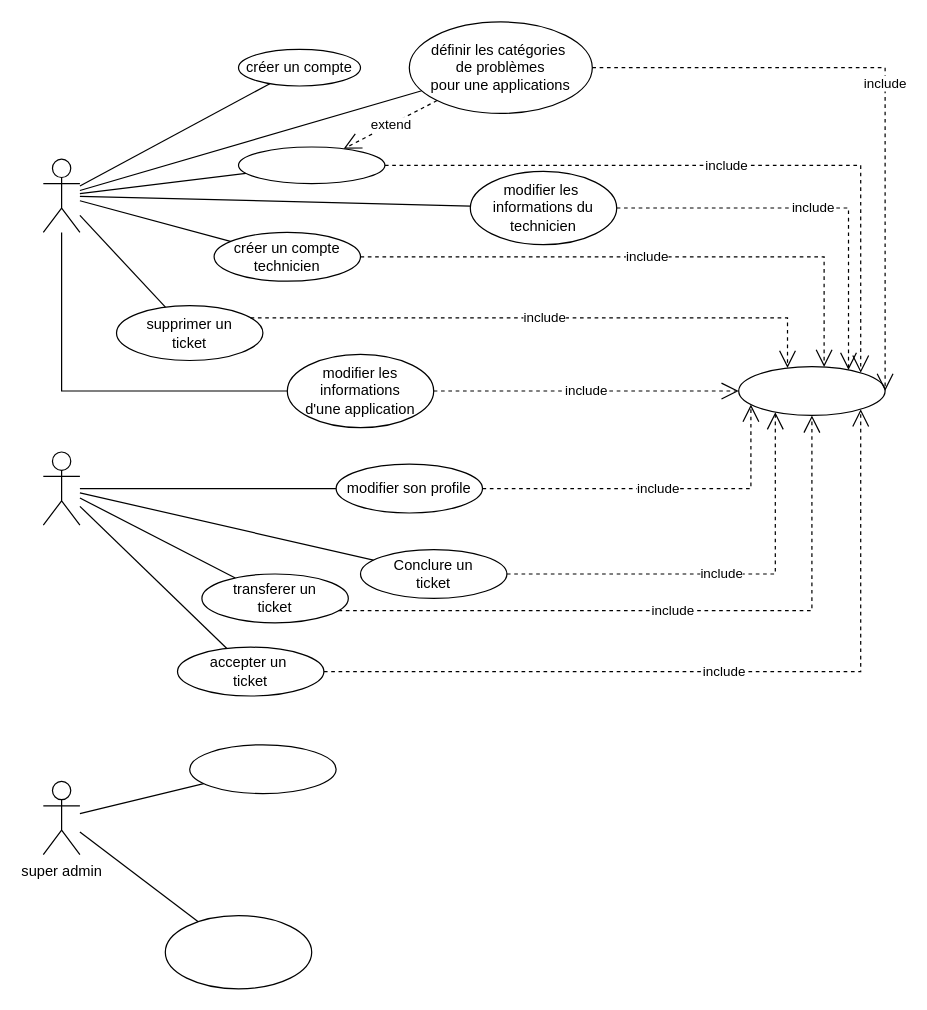
Some shapes in this 927 by 1010 pixel diagram are drawn without their labels. Here are the shapes that lost their labels. From the top down, the centre of each, then its label:
At pixel 311 165: "ajouter une application".
At pixel 61 195: "compagnie".
At pixel 811 390: "s'authentifier".
At pixel 61 488: "technicien".
At pixel 262 769: "supprimer une compagnie".
At pixel 238 951: "modifier les informations d'une compagnie".
